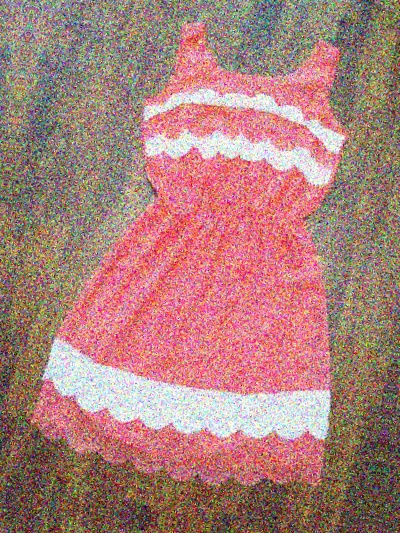Dress: (4, 2, 400, 514), (0, 529, 325, 533)
